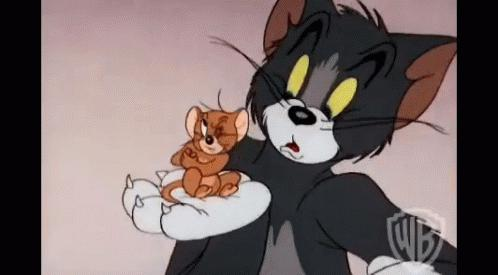jerry: (161, 91, 251, 205)
